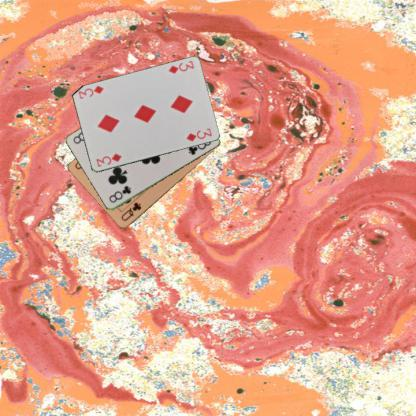3d: (166, 58, 195, 75), (94, 151, 122, 168)
8c: (106, 183, 132, 204)
Qc: (118, 200, 143, 222)
